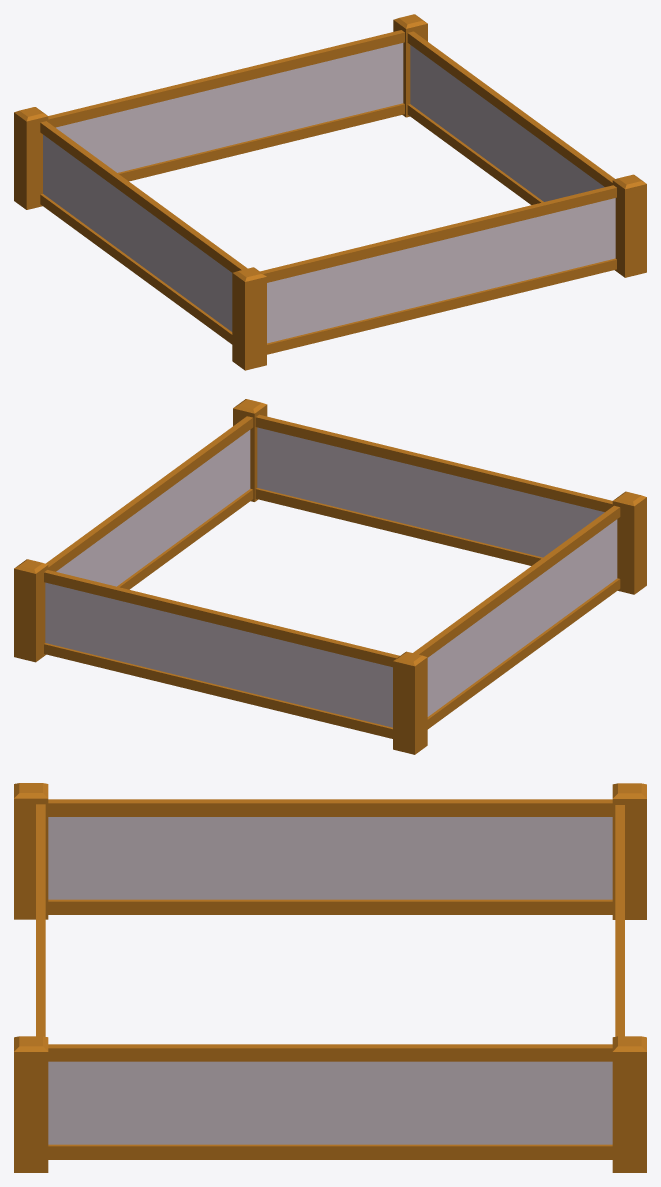
Rendered from FIELD.fbx.
3 views of the same model, one above another, from view 1: azimuth 30°, elevation 25°; view 2: azimuth 150°, elevation 25°; view 3: azimuth 270°, elevation 25° (orthographic). The views are drawn at different scales.
Parts seen in each view (by area): view 1: Cube.002, Cube.001; view 2: Cube.002, Cube.001; view 3: Cube.002, Cube.001.
Boxes of the visible parts, x1,y1,x2,y2 form: Cube.002: [40, 30, 616, 354]; Cube.001: [14, 14, 646, 370]; Cube.002: [44, 414, 620, 738]; Cube.001: [14, 399, 646, 754]; Cube.002: [36, 799, 624, 1159]; Cube.001: [14, 783, 646, 1172].
Bounding box in the file's own units: 35.44 × 35.39 × 7.67.
